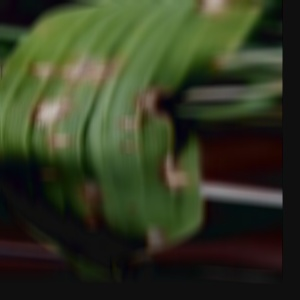Brown_Spot: (27, 45, 121, 88), (10, 90, 80, 135), (133, 78, 189, 131), (153, 145, 193, 190), (193, 45, 234, 77), (195, 0, 236, 29), (138, 218, 174, 247), (112, 133, 149, 157), (116, 112, 141, 132)
